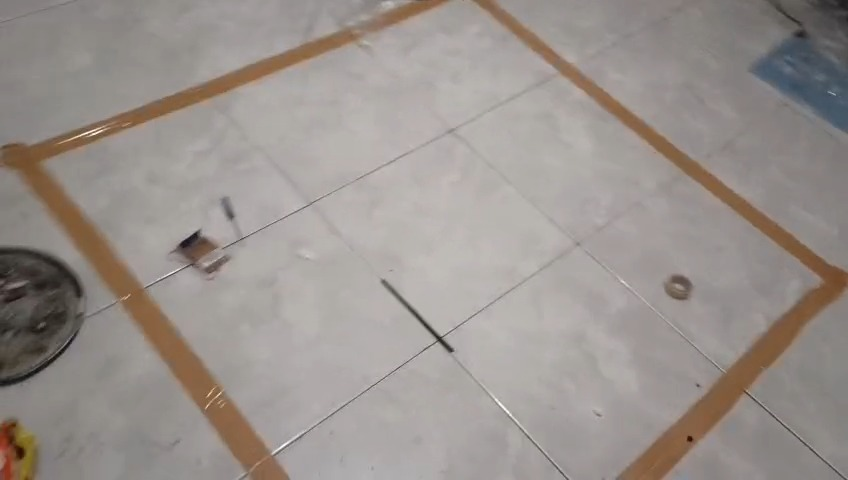floor marking: (473, 0, 847, 479), (3, 29, 361, 479)
